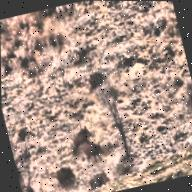boar: (82, 132, 114, 171), (65, 122, 97, 153), (54, 159, 76, 191), (89, 168, 117, 192)
